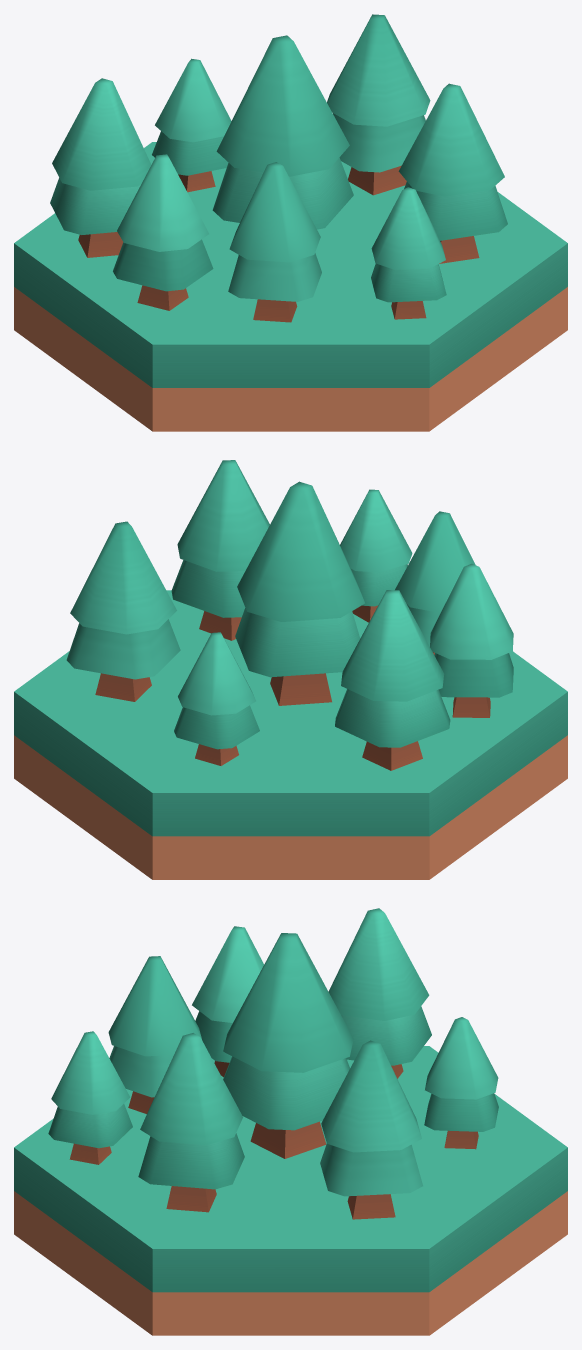
Rendered from grass-forest.fbx.
The picture shows the model from 3 angles, top to bottom: view 1: azimuth 30°, elevation 25°; view 2: azimuth 150°, elevation 25°; view 3: azimuth 270°, elevation 25°; orthographic projection.
Parts seen in each view (by area): view 1: grass_forest; view 2: grass_forest; view 3: grass_forest.
Boxes of the visible parts, x1,y1,x2,y2 form: grass_forest: (14,14,567,431); grass_forest: (14,460,567,879); grass_forest: (14,908,567,1335).
Bounding box in the file's own units: 100 × 67.5 × 115.
1 material, 1 textured.
